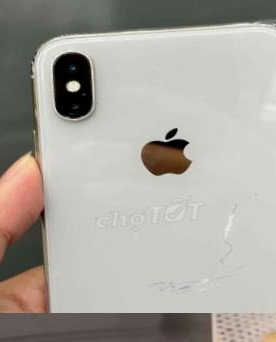scratch: (134, 251, 234, 309), (205, 196, 252, 284), (59, 107, 93, 127)
